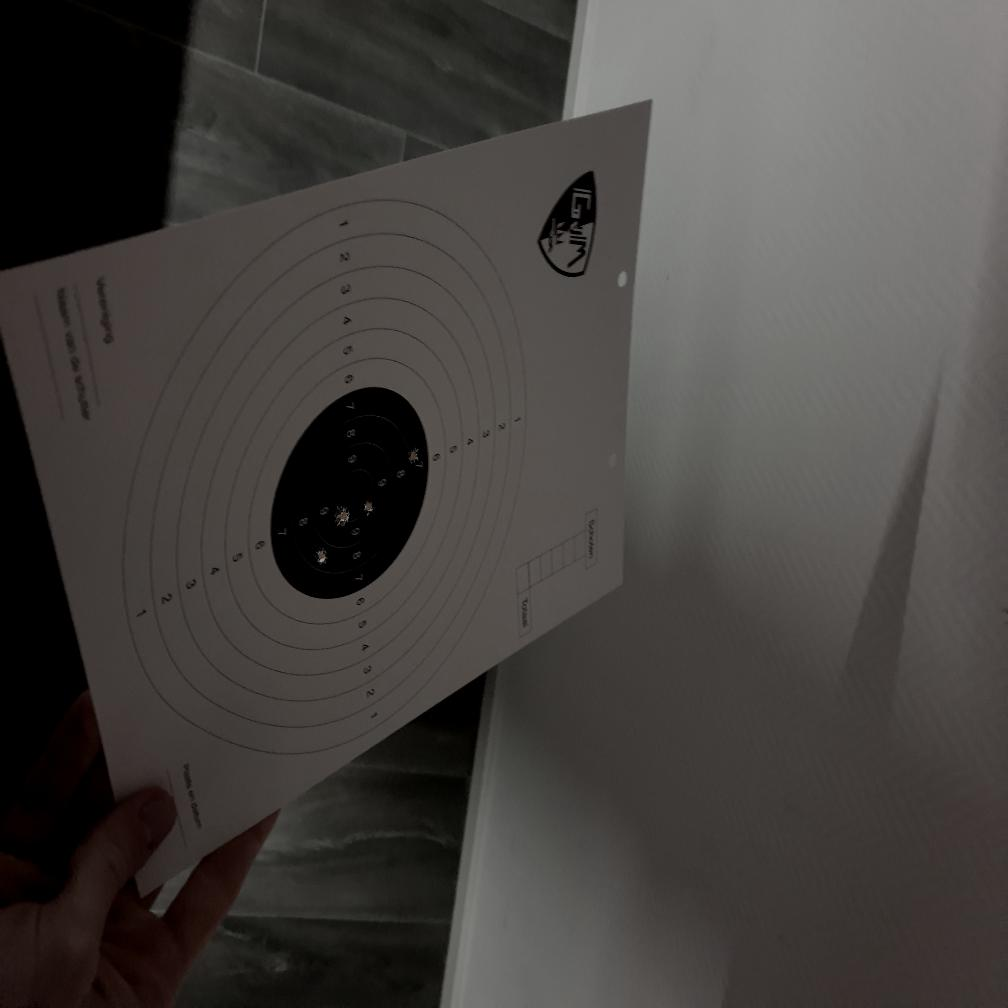10: (334, 506, 350, 527), (363, 499, 375, 517)
8: (315, 547, 328, 564), (407, 447, 420, 464)
Target: (121, 195, 530, 759)
black_contour: (270, 386, 429, 601)
